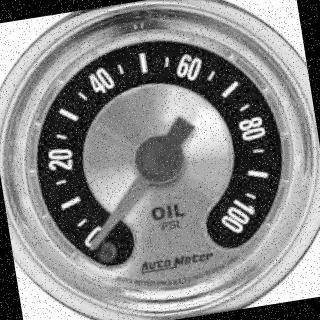gauge: (0, 1, 320, 320), (129, 130, 189, 190), (66, 209, 122, 263), (217, 192, 260, 242), (83, 232, 107, 256)
